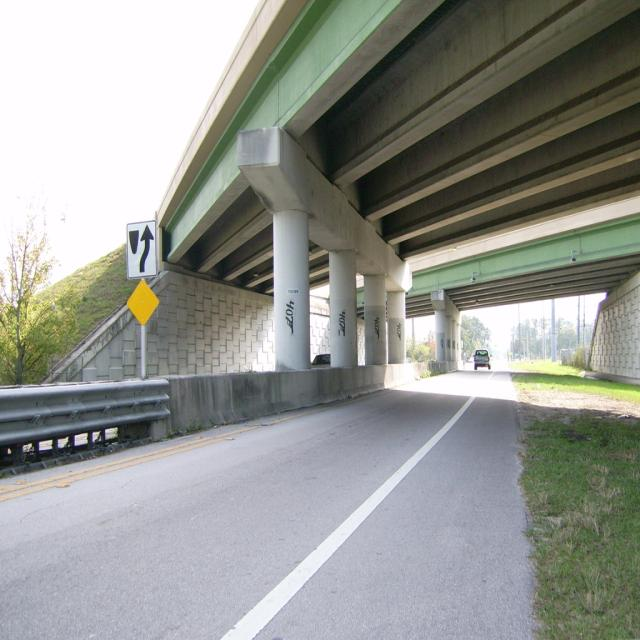car: (473, 346, 493, 371)
